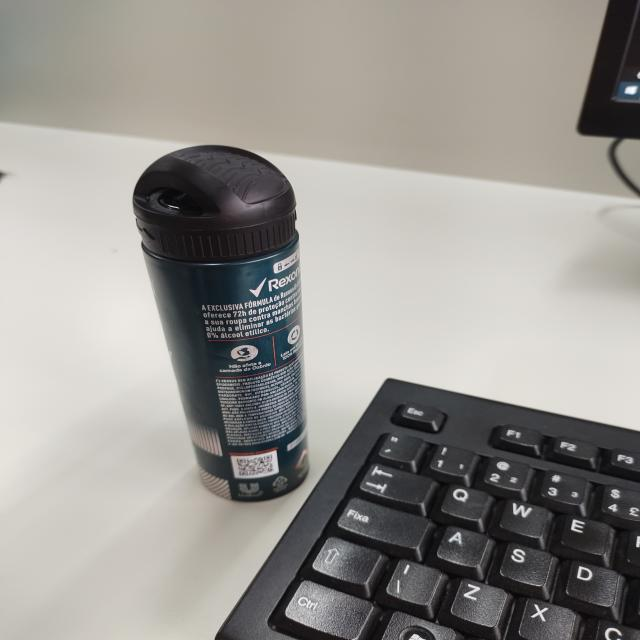Desodorante Azul: (133, 145, 308, 501)
